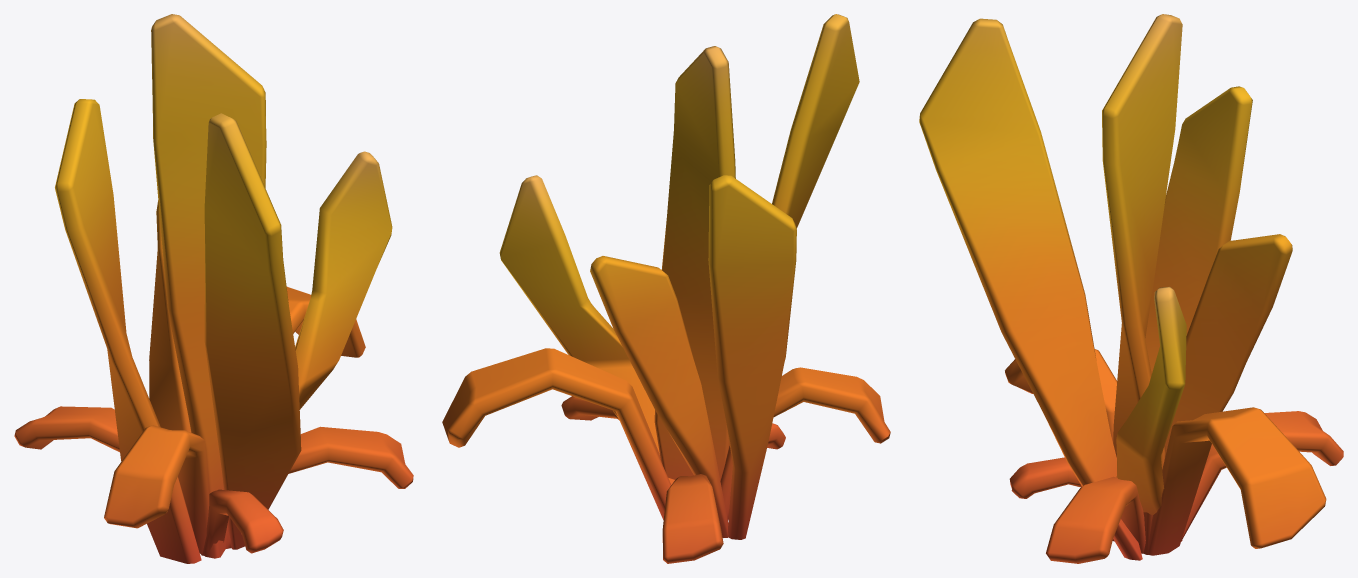
The model's file is Plants_015.fbx.
The picture shows the model from 3 angles, left to right: view 1: azimuth 30°, elevation 25°; view 2: azimuth 150°, elevation 25°; view 3: azimuth 270°, elevation 25°; orthographic projection. The views are drawn at different scales.
Parts seen in each view (by area): view 1: Plants.015; view 2: Plants.015; view 3: Plants.015.
Boxes of the visible parts, x1,y1,x2,y2 form: Plants.015: (14,14,413,563); Plants.015: (442,14,890,563); Plants.015: (919,14,1343,563).
Bounding box in the file's own units: 675 × 928 × 689.
